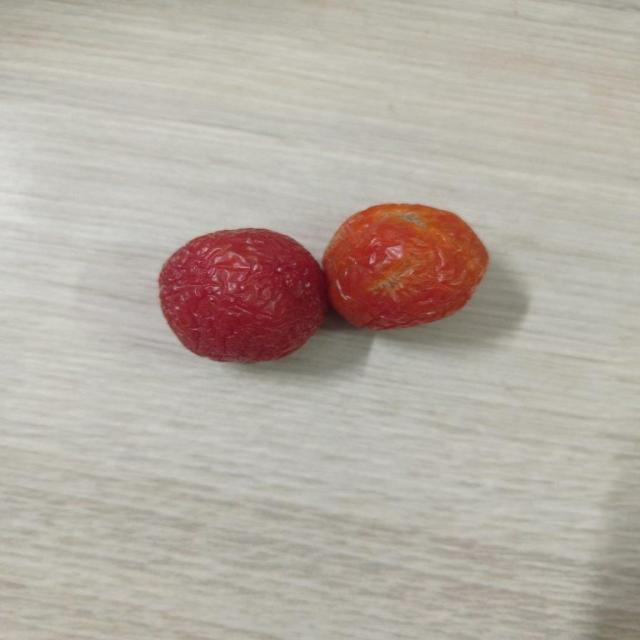overripe: (156, 223, 322, 367), (322, 200, 492, 329)
